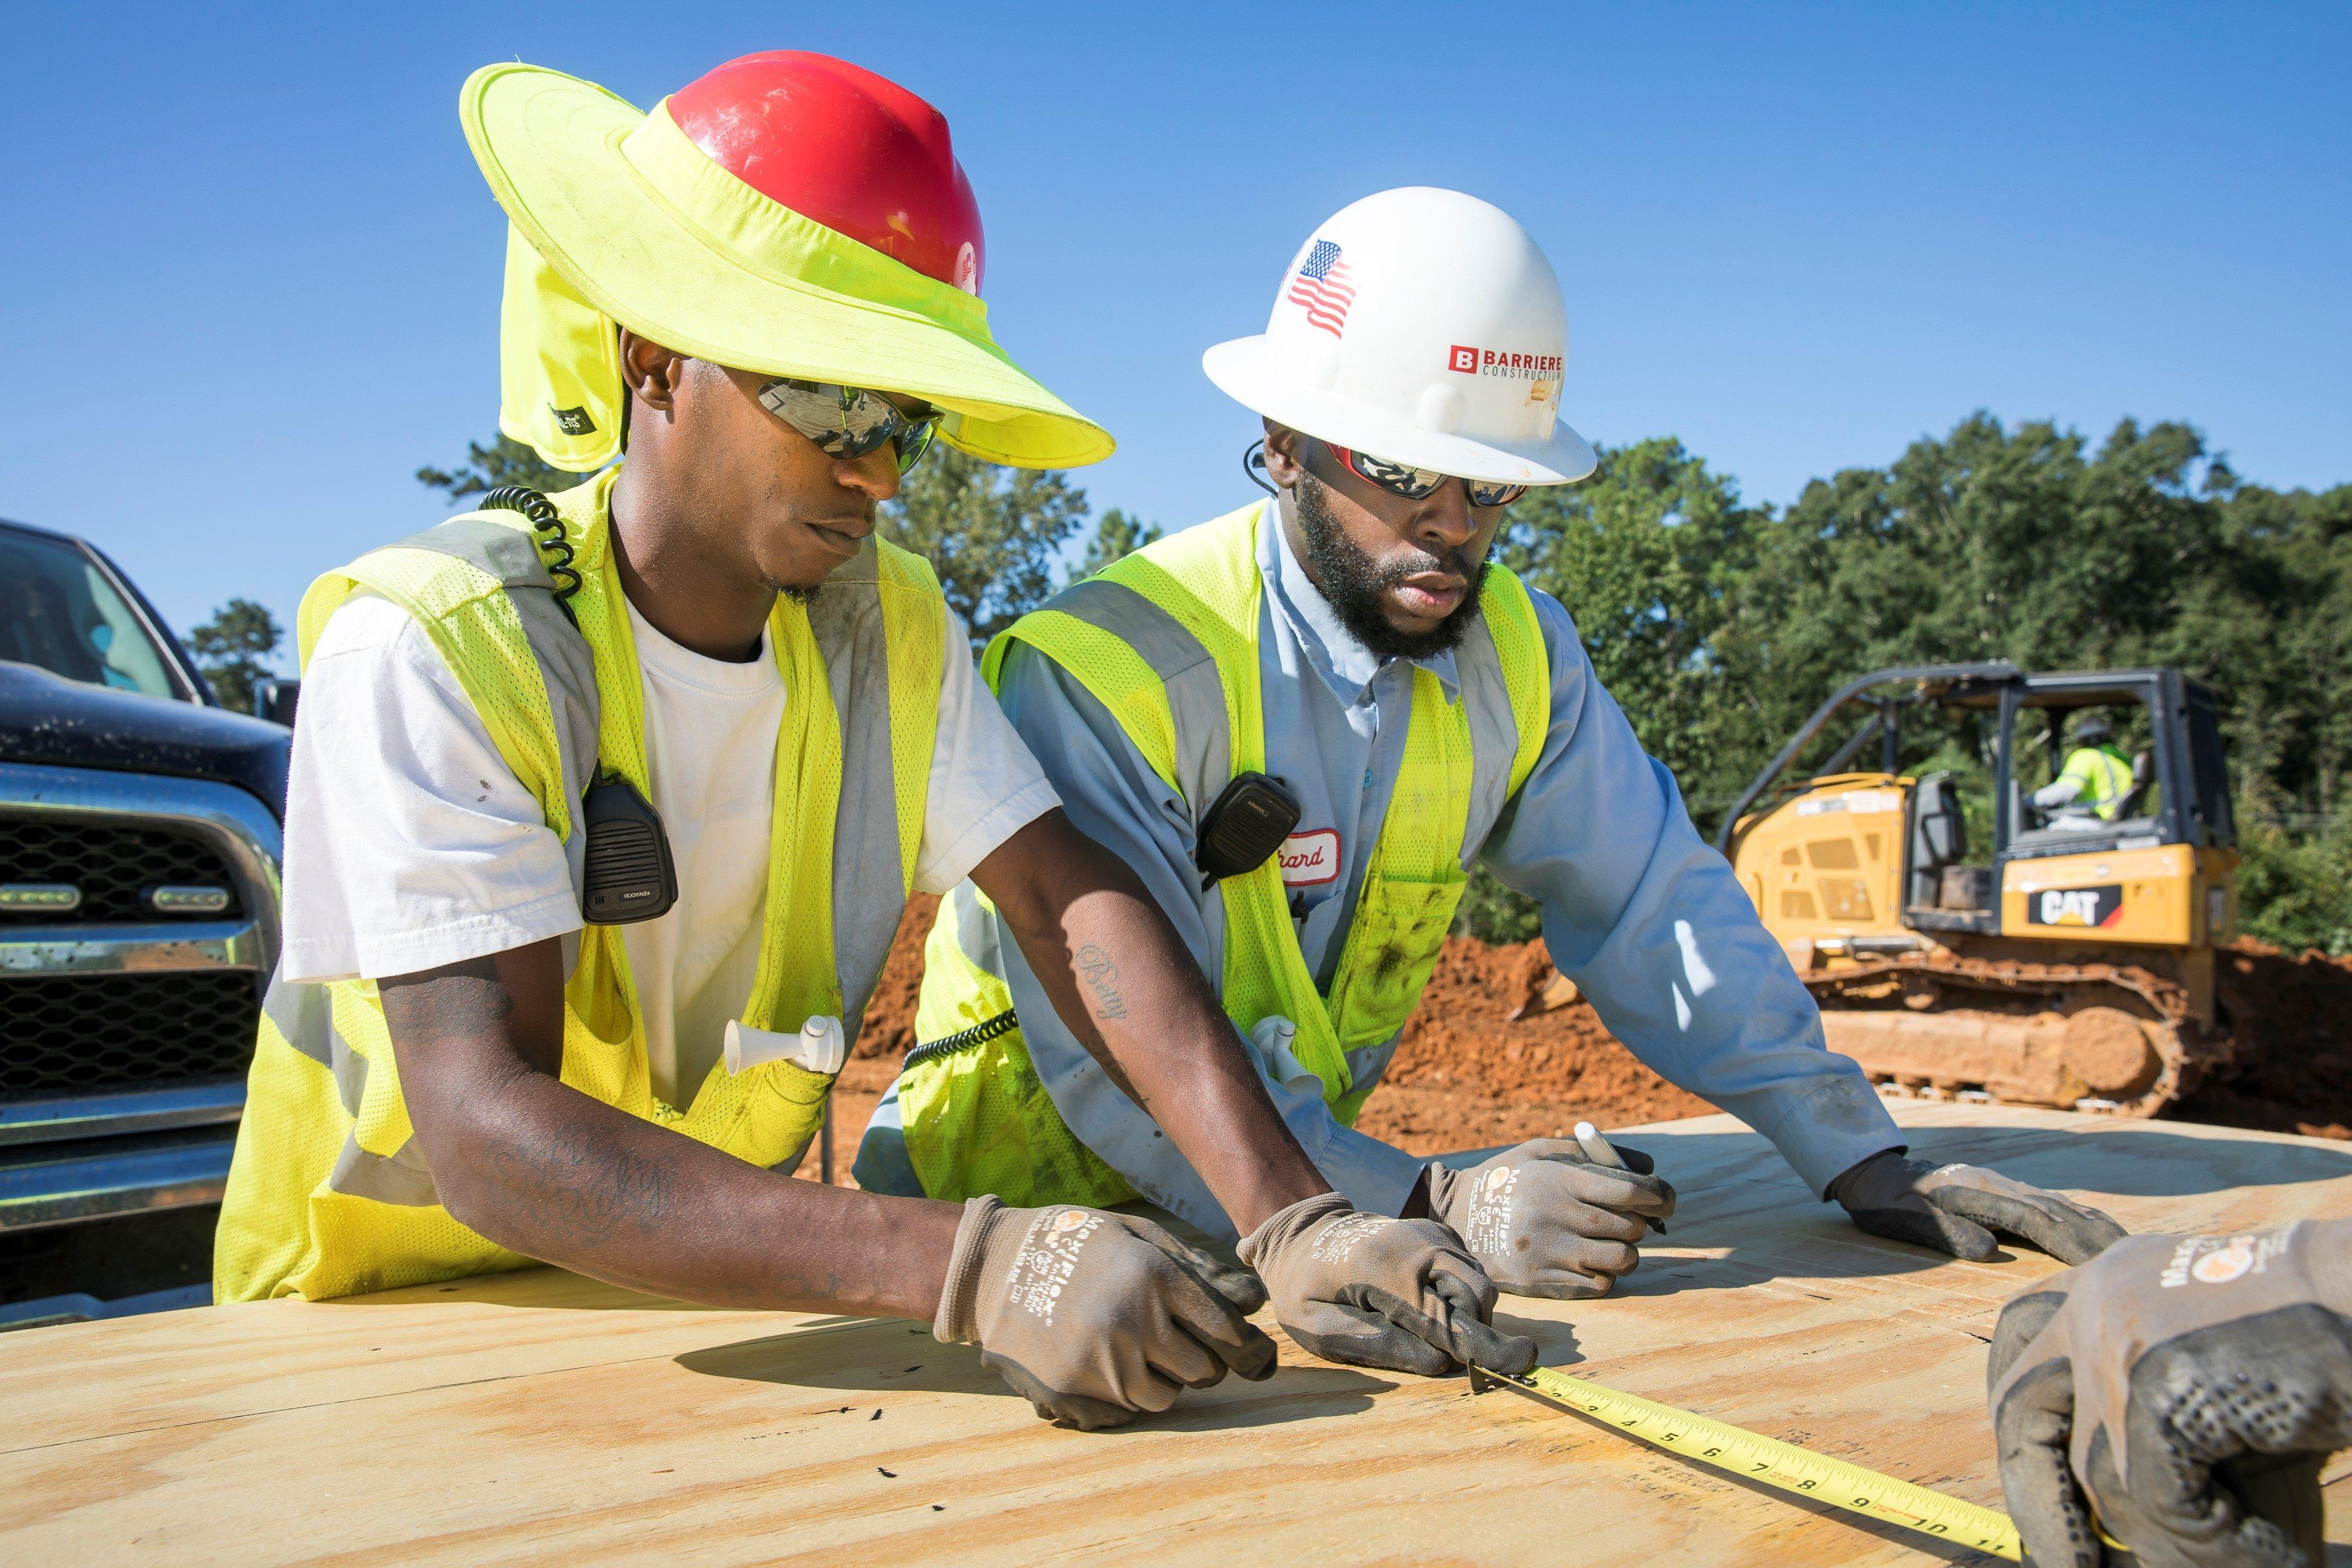helmet: (1197, 184, 1601, 486), (621, 26, 1006, 322)
